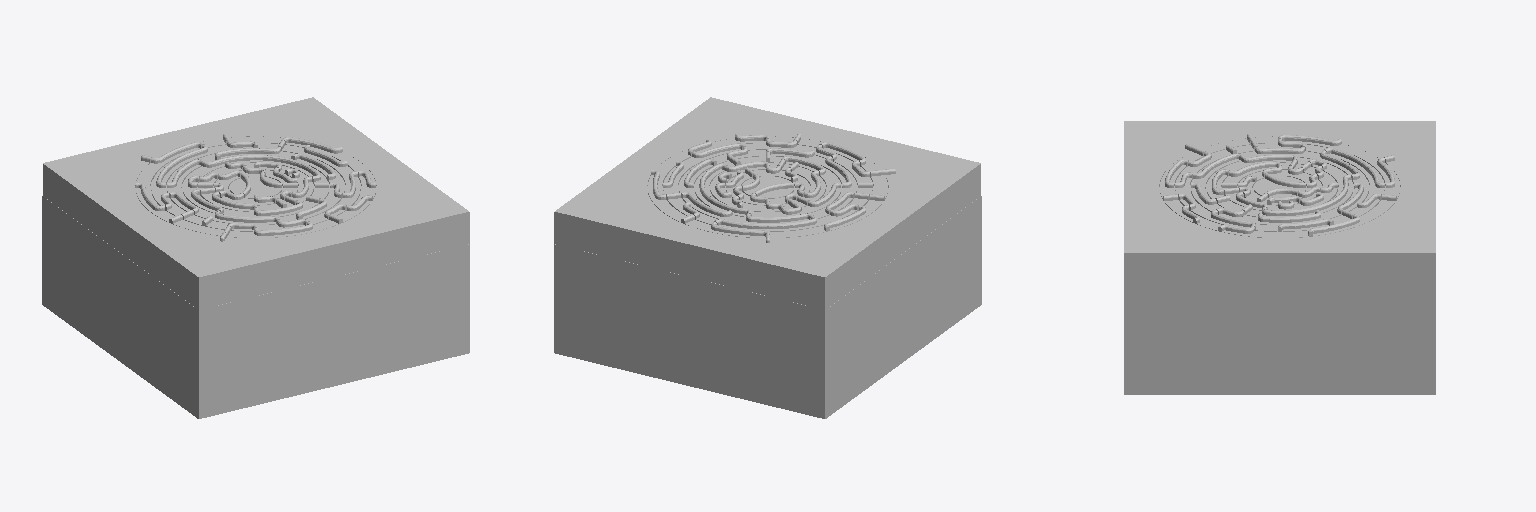
Rendered from Scrigno4.obj.
3 renders of one model, left to right at view 1: azimuth 30°, elevation 25°; view 2: azimuth 150°, elevation 25°; view 3: azimuth 270°, elevation 25°, orthographic.
Parts seen in each view (by area): view 1: Scrigno4.tot_Base.001, Scrigno4.tot_Coperchio4.002, Scrigno4.tot_Ghiera4.014, Scrigno4.tot_Ghiera4.013, Scrigno4.tot_Ghiera4.012, Scrigno4.tot_Ghiera4.011, Scrigno4.tot_Ghiera4.010, Scrigno4.tot_Ghiera4.009, Scrigno4.tot_Ghiera4.008; view 2: Scrigno4.tot_Base.001, Scrigno4.tot_Coperchio4.002, Scrigno4.tot_Ghiera4.014, Scrigno4.tot_Ghiera4.013, Scrigno4.tot_Ghiera4.012, Scrigno4.tot_Ghiera4.011, Scrigno4.tot_Ghiera4.010, Scrigno4.tot_Ghiera4.009, Scrigno4.tot_Ghiera4.008; view 3: Scrigno4.tot_Base.001, Scrigno4.tot_Coperchio4.002, Scrigno4.tot_Ghiera4.014, Scrigno4.tot_Ghiera4.013, Scrigno4.tot_Ghiera4.012, Scrigno4.tot_Ghiera4.011, Scrigno4.tot_Ghiera4.010, Scrigno4.tot_Ghiera4.009, Scrigno4.tot_Ghiera4.008.
Boxes of the visible parts, box(x1,y1,x2,y2) form: Scrigno4.tot_Base.001: box(42, 196, 469, 418); Scrigno4.tot_Coperchio4.002: box(43, 97, 469, 309); Scrigno4.tot_Ghiera4.014: box(136, 134, 375, 237); Scrigno4.tot_Ghiera4.013: box(151, 140, 360, 231); Scrigno4.tot_Ghiera4.012: box(167, 147, 344, 224); Scrigno4.tot_Ghiera4.011: box(183, 155, 328, 216); Scrigno4.tot_Ghiera4.010: box(198, 161, 313, 211); Scrigno4.tot_Ghiera4.009: box(214, 166, 297, 205); Scrigno4.tot_Ghiera4.008: box(230, 172, 281, 198); Scrigno4.tot_Base.001: box(554, 196, 981, 418); Scrigno4.tot_Coperchio4.002: box(554, 97, 980, 309); Scrigno4.tot_Ghiera4.014: box(648, 134, 887, 237); Scrigno4.tot_Ghiera4.013: box(663, 139, 872, 231); Scrigno4.tot_Ghiera4.012: box(679, 147, 856, 223); Scrigno4.tot_Ghiera4.011: box(695, 152, 840, 216); Scrigno4.tot_Ghiera4.010: box(710, 159, 825, 211); Scrigno4.tot_Ghiera4.009: box(726, 165, 809, 205); Scrigno4.tot_Ghiera4.008: box(742, 173, 793, 198); Scrigno4.tot_Base.001: box(1124, 286, 1435, 394); Scrigno4.tot_Coperchio4.002: box(1124, 121, 1435, 285); Scrigno4.tot_Ghiera4.014: box(1160, 134, 1399, 237); Scrigno4.tot_Ghiera4.013: box(1175, 139, 1384, 231); Scrigno4.tot_Ghiera4.012: box(1191, 147, 1368, 224); Scrigno4.tot_Ghiera4.011: box(1207, 155, 1352, 216); Scrigno4.tot_Ghiera4.010: box(1222, 159, 1337, 210); Scrigno4.tot_Ghiera4.009: box(1238, 165, 1321, 205); Scrigno4.tot_Ghiera4.008: box(1254, 173, 1305, 197).
Size of the model in its own units: 63.35 by 32.65 by 63.35.